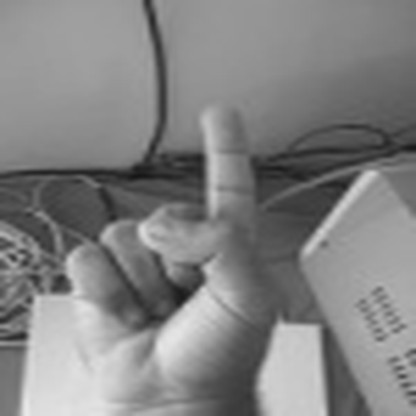d: (60, 94, 272, 415)
